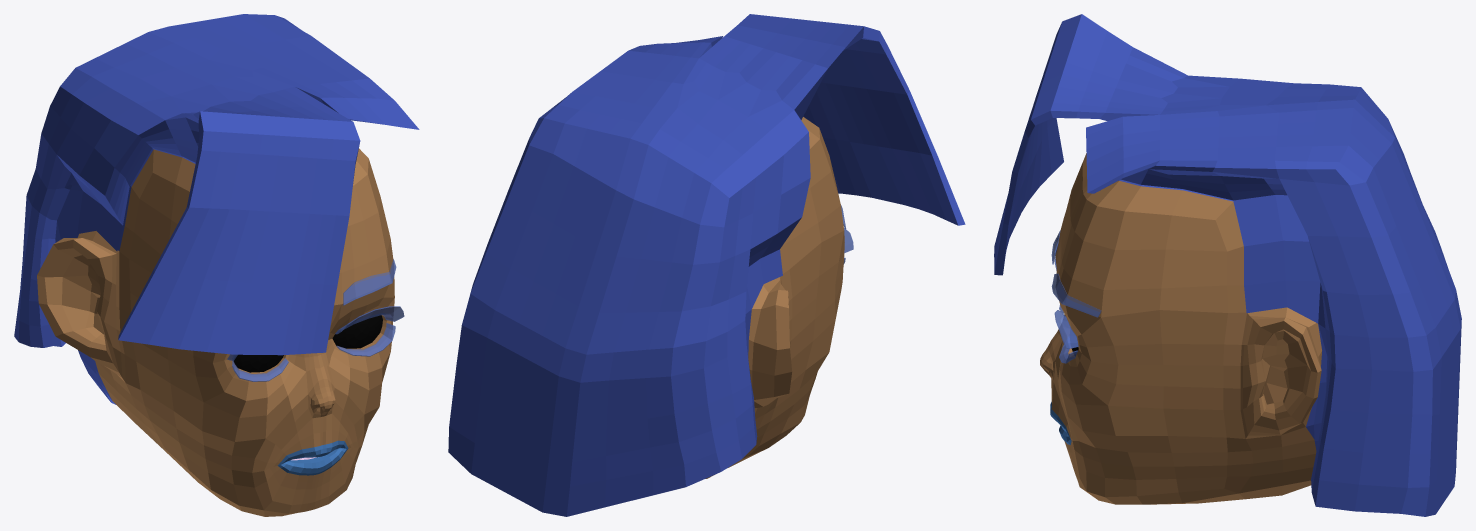
File: DemonWonky.fbx
3 views of the same model, side by side, from view 1: azimuth 30°, elevation 25°; view 2: azimuth 150°, elevation 25°; view 3: azimuth 270°, elevation 25° (orthographic). The views are drawn at different scales.
Parts seen in each view (by area): view 1: WonkyFace; view 2: WonkyFace; view 3: WonkyFace.
Part boxes in pixels (x1,y1,x2,y2): WonkyFace: [14, 14, 419, 516]; WonkyFace: [448, 14, 965, 516]; WonkyFace: [994, 14, 1461, 516].
Size of the model in its own units: 0.3741 by 0.4287 by 0.4299.
